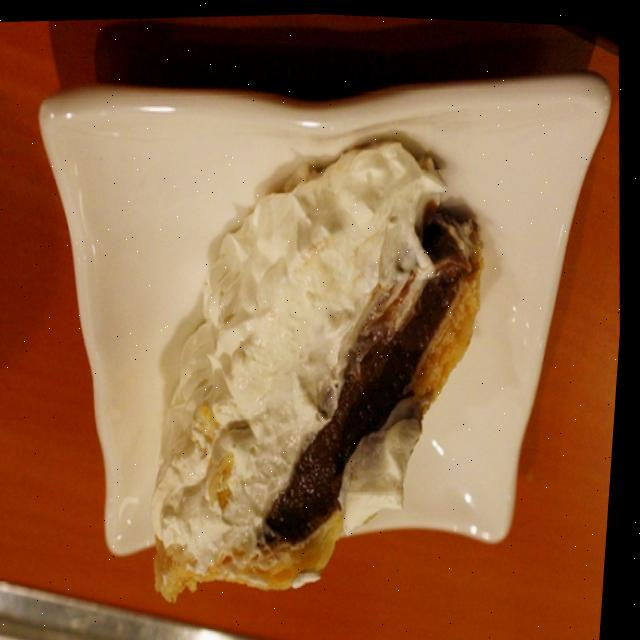蛋糕甜品: (71, 94, 576, 640)
